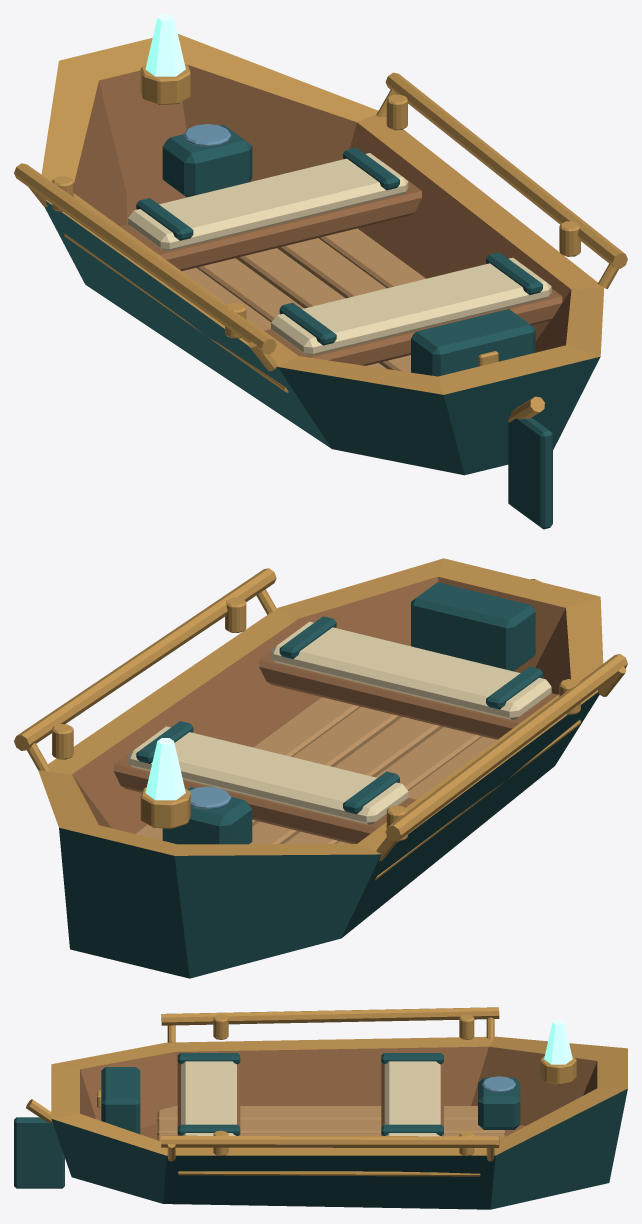
The model's file is boat.glb.
The picture shows the model from 3 angles, top to bottom: view 1: azimuth 30°, elevation 25°; view 2: azimuth 150°, elevation 25°; view 3: azimuth 270°, elevation 25°; orthographic projection. The views are drawn at different scales.
Visible parts, largest first — view 1: Open double-seat exploration hull, Ivory padded bench, Ivory padded bench.001, Transverse timber seat base.001, Long slender outrigger rail, Stern luggage locker, Long slender outrigger rail.001, Deck compass housing, Rudder blade, Transverse timber seat base, Long timber deck plank.002, Long timber deck plank.003 (+13 smaller); view 2: Open double-seat exploration hull, Ivory padded bench, Ivory padded bench.001, Stern luggage locker, Transverse timber seat base, Long slender outrigger rail.001, Long slender outrigger rail, Transverse timber seat base.001, Long timber deck plank.002, Deck compass housing, Long timber deck plank.001, Long timber deck plank.004 (+12 smaller); view 3: Open double-seat exploration hull, Long slender outrigger rail.001, Long slender outrigger rail, Ivory padded bench.001, Ivory padded bench, Rudder blade, Long timber deck plank.001, Long timber deck plank, Stern luggage locker, Deck compass housing, Hull side gold waterline.001, Bow navigation crystal (+12 smaller).
Part boxes in pixels (bbox=[...]): Open double-seat exploration hull: bbox=[41, 34, 604, 475]; Ivory padded bench: bbox=[271, 257, 551, 355]; Ivory padded bench.001: bbox=[128, 153, 408, 250]; Transverse timber seat base.001: bbox=[120, 162, 421, 270]; Long slender outrigger rail: bbox=[14, 163, 276, 354]; Stern luggage locker: bbox=[411, 309, 535, 376]; Long slender outrigger rail.001: bbox=[385, 72, 627, 268]; Deck compass housing: bbox=[162, 124, 252, 197]; Rudder blade: bbox=[508, 413, 552, 529]; Transverse timber seat base: bbox=[264, 288, 562, 365]; Long timber deck plank.002: bbox=[236, 248, 410, 372]; Long timber deck plank.003: bbox=[277, 238, 386, 298]; Open double-seat exploration hull: bbox=[38, 558, 603, 978]; Ivory padded bench: bbox=[271, 621, 551, 719]; Ivory padded bench.001: bbox=[128, 726, 408, 824]; Stern luggage locker: bbox=[411, 582, 535, 671]; Transverse timber seat base: bbox=[259, 652, 558, 739]; Long slender outrigger rail.001: bbox=[14, 568, 276, 750]; Long slender outrigger rail: bbox=[385, 654, 627, 841]; Transverse timber seat base.001: bbox=[113, 743, 416, 843]; Long timber deck plank.002: bbox=[250, 717, 443, 843]; Deck compass housing: bbox=[162, 787, 252, 844]; Long timber deck plank.001: bbox=[284, 727, 482, 843]; Long timber deck plank.004: bbox=[135, 697, 360, 840]; Open double-seat exploration hull: bbox=[51, 1036, 627, 1209]; Long slender outrigger rail.001: bbox=[161, 1135, 499, 1147]; Long slender outrigger rail: bbox=[161, 1007, 499, 1025]; Ivory padded bench.001: bbox=[384, 1061, 440, 1136]; Ivory padded bench: bbox=[181, 1061, 236, 1135]; Rudder blade: bbox=[14, 1117, 64, 1188]; Long timber deck plank.001: bbox=[157, 1119, 504, 1135]; Long timber deck plank: bbox=[157, 1106, 477, 1120]; Stern luggage locker: bbox=[101, 1067, 140, 1134]; Deck compass housing: bbox=[478, 1077, 520, 1129]; Hull side gold waterline.001: bbox=[178, 1171, 480, 1176]; Bow navigation crystal: bbox=[544, 1020, 572, 1064].
Bounding box in the file's own units: 1.87 × 1.07 × 3.62.
